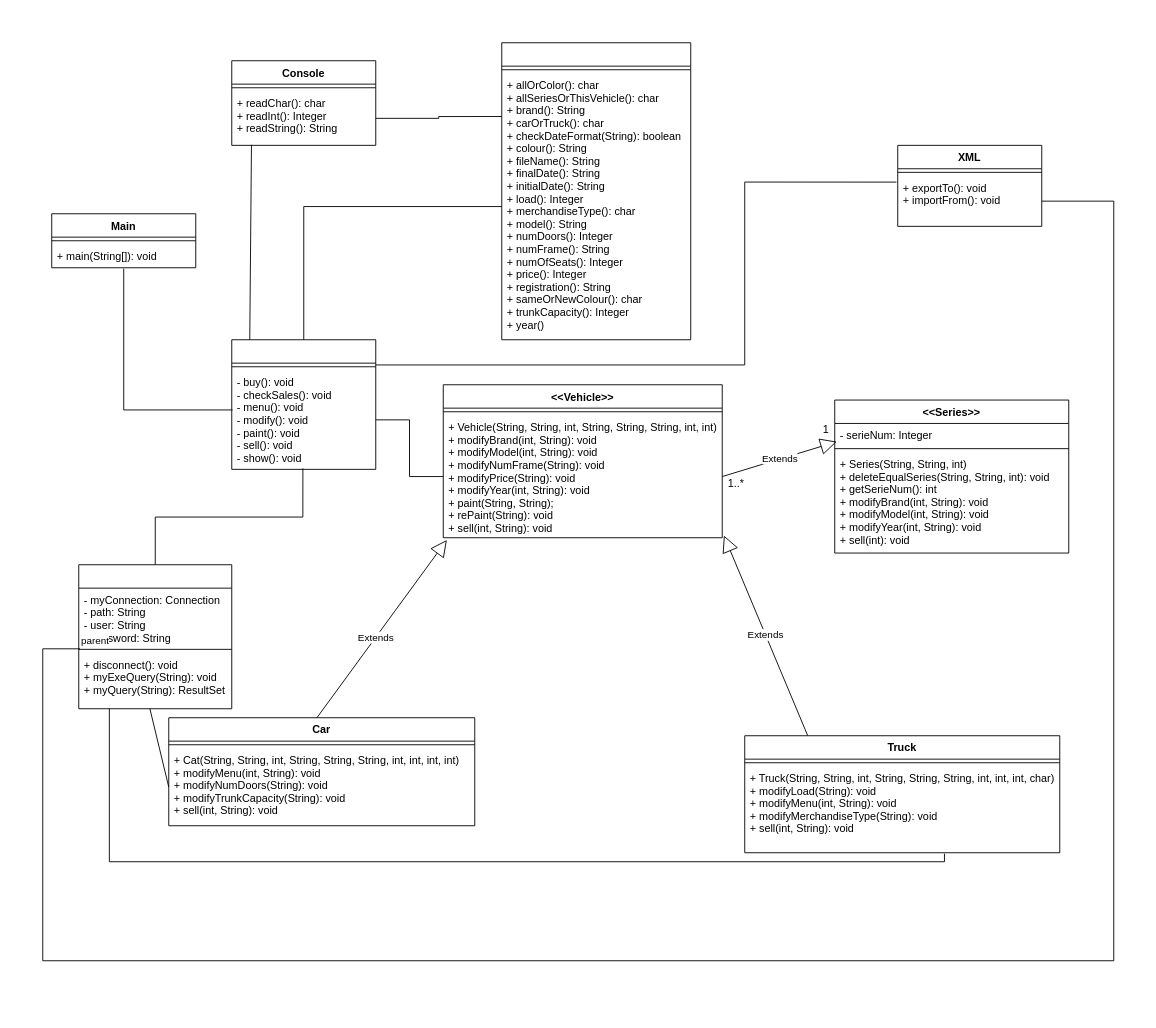
Image size: 1156x1028. Some labels were removed from this diagram. The box of each missing label's shape, as (x1, y1, x2, y2) in pixels:
AskFor: (501, 42, 691, 340)
Concessionaire: (231, 339, 376, 469)
ConnectionToDB: (78, 564, 232, 709)
